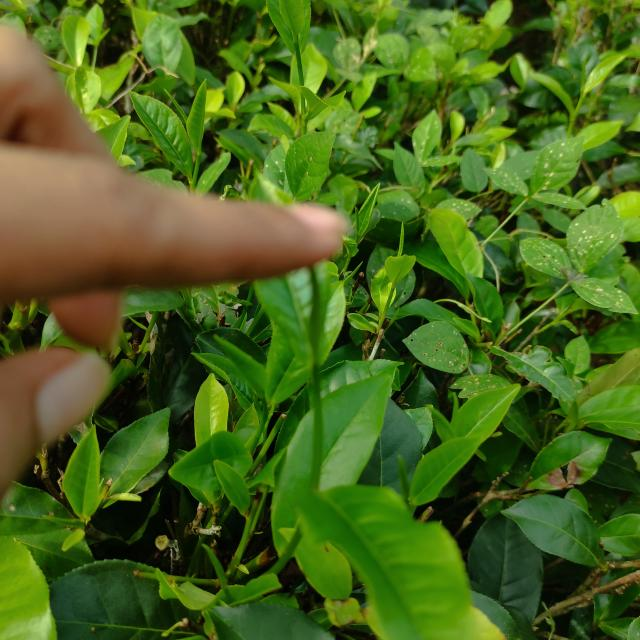unopened_leaf: (302, 257, 334, 361), (197, 536, 240, 604), (161, 83, 195, 126), (382, 265, 406, 320), (37, 510, 93, 533), (276, 0, 303, 46), (448, 388, 471, 439), (560, 391, 583, 436), (575, 50, 592, 97), (393, 218, 409, 262), (351, 202, 366, 238), (569, 337, 582, 370)
